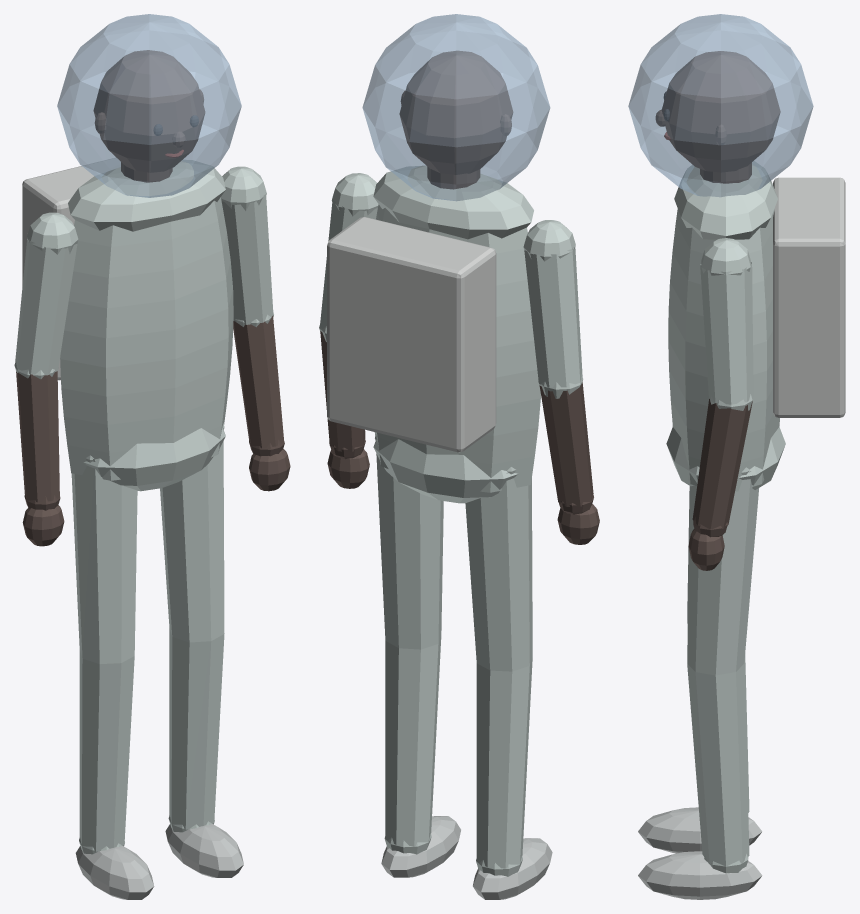
The model's file is a-low-poly-astronaut-with-a-backpack-183-lowpoly.glb.
3 views of the same model, side by side, from view 1: azimuth 30°, elevation 25°; view 2: azimuth 150°, elevation 25°; view 3: azimuth 270°, elevation 25° (orthographic).
Parts seen in each view (by area): view 1: person; view 2: person; view 3: person.
Boxes of the visible parts, x1=… form: person: x1=14, y1=14, x2=290, y2=899; person: x1=319, y1=14, x2=599, y2=899; person: x1=628, y1=14, x2=845, y2=899.
Bounding box in the file's own units: 0.5878 × 1.81 × 0.4183.
